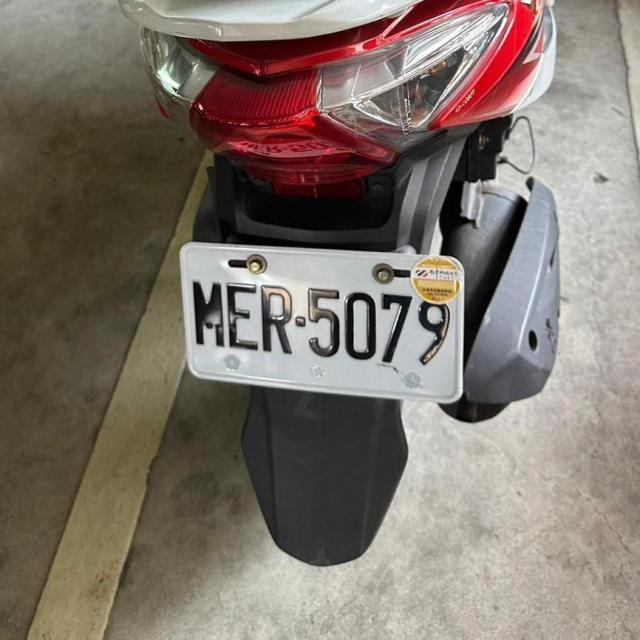W: (167, 233, 469, 408)
